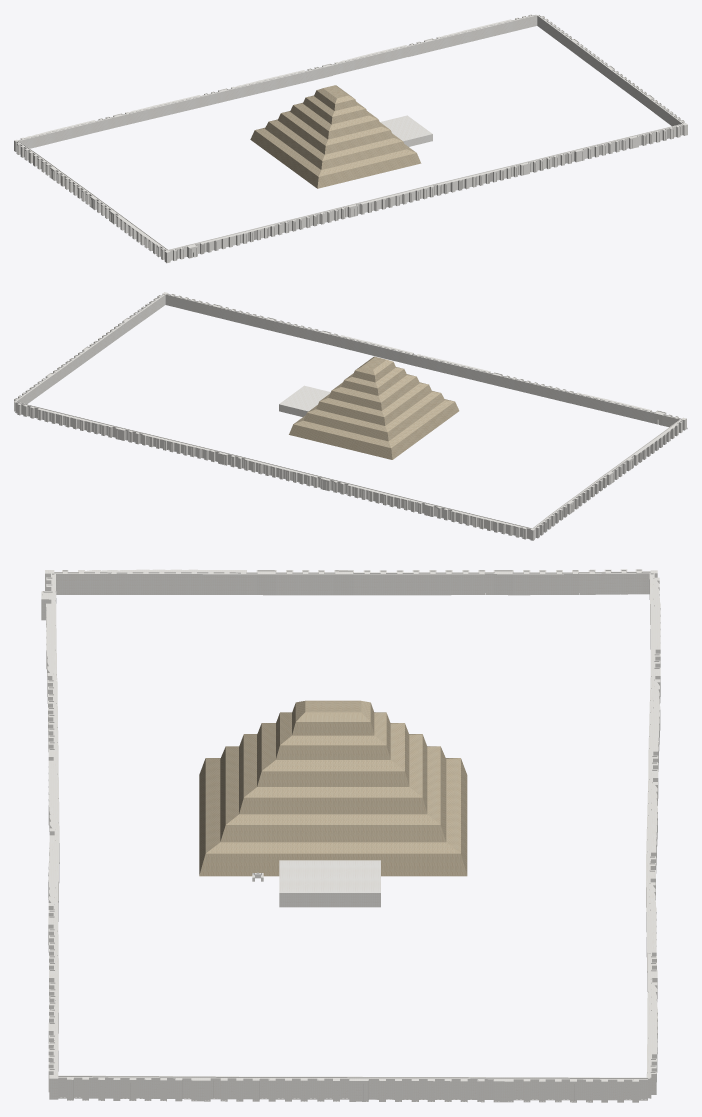
File: Djoser.obj
3 views of the same model, one above another, from view 1: azimuth 30°, elevation 25°; view 2: azimuth 150°, elevation 25°; view 3: azimuth 270°, elevation 25° (orthographic). The views are drawn at different scales.
Parts seen in each view (by area): view 1: Mesh82 Model, Mesh9 Component_1_9 Model, Mesh6 Component_1_6 Model, Mesh7 Component_1_7 Model, Mesh1 Component_1_1 Model, Mesh2 Component_1_2 Model, Mesh3 Component_1_3 Model, Mesh8 Component_1_8 Model, Mesh5 Component_1_5 Model, Mesh4 Component_1_4 Model; view 2: Mesh82 Model, Mesh1 Component_1_1 Model, Mesh2 Component_1_2 Model, Mesh5 Component_1_5 Model, Mesh3 Component_1_3 Model, Mesh9 Component_1_9 Model, Mesh6 Component_1_6 Model, Mesh7 Component_1_7 Model, Mesh8 Component_1_8 Model, Mesh4 Component_1_4 Model; view 3: Mesh82 Model, Mesh4 Component_1_4 Model, Mesh13 Component_2_4 Model, Mesh14 Component_2_5 Model, Mesh15 Component_2_6 Model, Mesh16 Component_2_7 Model, Mesh17 Component_2_8 Model, Mesh58 Component_6_5 Model, Mesh6 Component_1_6 Model, Mesh9 Component_1_9 Model, Mesh3 Component_1_3 Model, Mesh2 Component_1_2 Model (+13 smaller).
Boxes of the visible parts, x1,y1,x2,y2 form: Mesh82 Model: (250,85,432,188); Mesh9 Component_1_9 Model: (434,19,513,50); Mesh6 Component_1_6 Model: (122,95,201,125); Mesh7 Component_1_7 Model: (228,70,305,100); Mesh1 Component_1_1 Model: (199,223,277,254); Mesh2 Component_1_2 Model: (359,183,436,214); Mesh3 Component_1_3 Model: (436,165,513,195); Mesh8 Component_1_8 Model: (332,45,408,75); Mesh5 Component_1_5 Model: (18,120,96,148); Mesh4 Component_1_4 Model: (116,214,164,257); Mesh82 Model: (279,356,459,459); Mesh1 Component_1_1 Model: (571,392,651,422); Mesh2 Component_1_2 Model: (411,354,490,383); Mesh5 Component_1_5 Model: (451,509,531,539); Mesh3 Component_1_3 Model: (335,335,413,364); Mesh9 Component_1_9 Model: (37,407,117,437); Mesh6 Component_1_6 Model: (347,483,426,513); Mesh7 Component_1_7 Model: (244,458,322,487); Mesh8 Component_1_8 Model: (142,433,220,461); Mesh4 Component_1_4 Model: (632,422,678,465); Mesh82 Model: (199,700,467,907); Mesh4 Component_1_4 Model: (68,569,246,594); Mesh13 Component_2_4 Model: (354,570,419,595); Mesh14 Component_2_5 Model: (419,570,485,595); Mesh15 Component_2_6 Model: (513,570,578,595); Mesh16 Component_2_7 Model: (67,1075,129,1100); Mesh17 Component_2_8 Model: (129,1076,191,1101); Mesh58 Component_6_5 Model: (579,569,621,594); Mesh6 Component_1_6 Model: (648,675,660,771); Mesh9 Component_1_9 Model: (647,978,657,1072); Mesh3 Component_1_3 Model: (48,835,59,921); Mesh2 Component_1_2 Model: (48,760,59,836).
Bounding box in the file's own units: 552 × 59.88 × 282.
